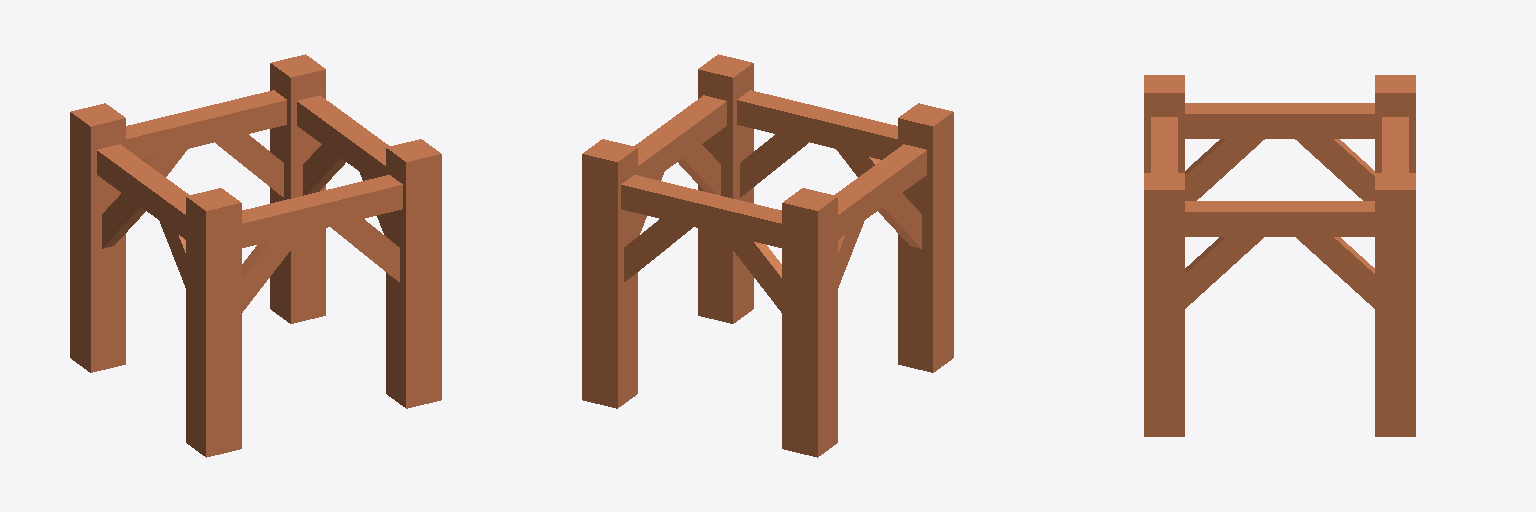
Rendered from wood-structure.obj.
The picture shows the model from 3 angles: view 1: azimuth 30°, elevation 25°; view 2: azimuth 150°, elevation 25°; view 3: azimuth 270°, elevation 25°; orthographic projection.
Parts seen in each view (by area): view 1: wood-structure; view 2: wood-structure; view 3: wood-structure.
Part boxes in pixels (left/top/right/bottom): wood-structure: left=70, top=54, right=441, bottom=457; wood-structure: left=582, top=54, right=953, bottom=457; wood-structure: left=1144, top=75, right=1415, bottom=436.
Size of the model in its own units: 1 by 1 by 1.